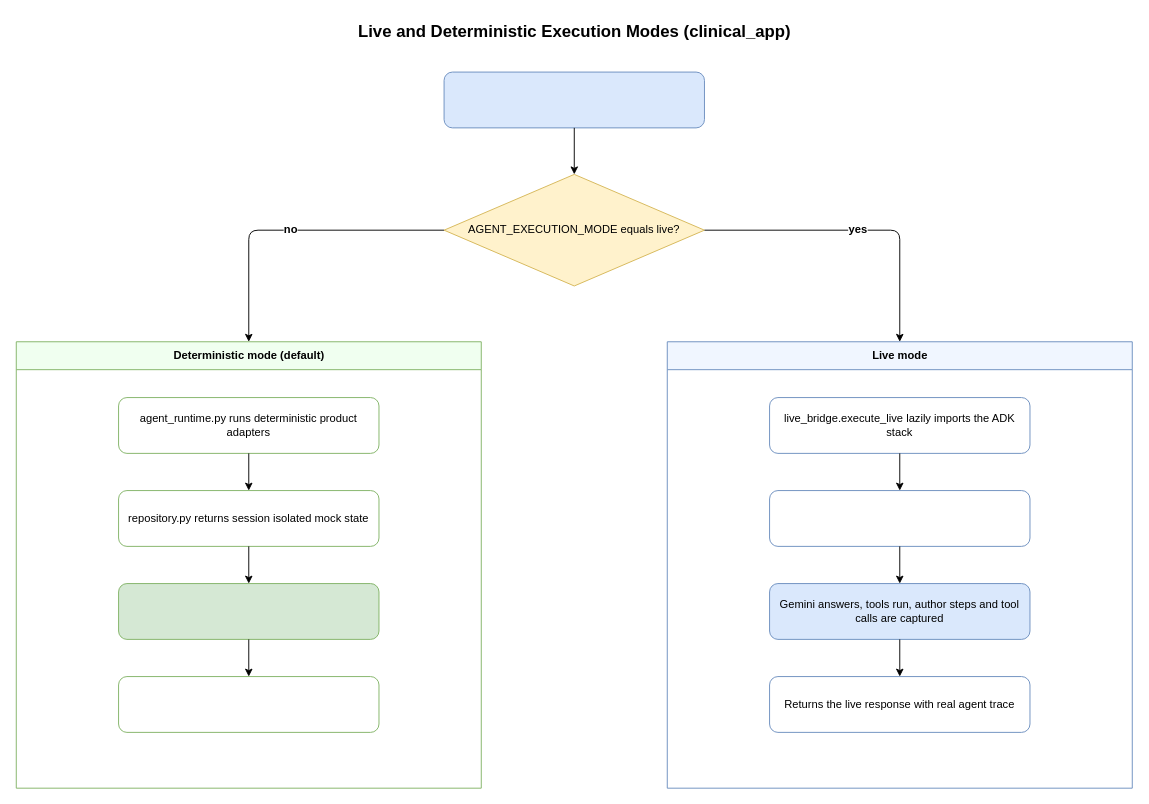
Some shapes in this 1149 by 804 pixel diagram are drawn without their labels. The shapes that lost their labels are listed below. From the top down, each one's centre as x and y in pixels, then its label:
point 573,99: Clinician request reaches a clinical_app route
point 899,518: Runner drives root_agent with the session and memory services
point 248,611: No model call, no network, no API key required
point 248,704: Returns a stable, reproducible response for demos and tests
